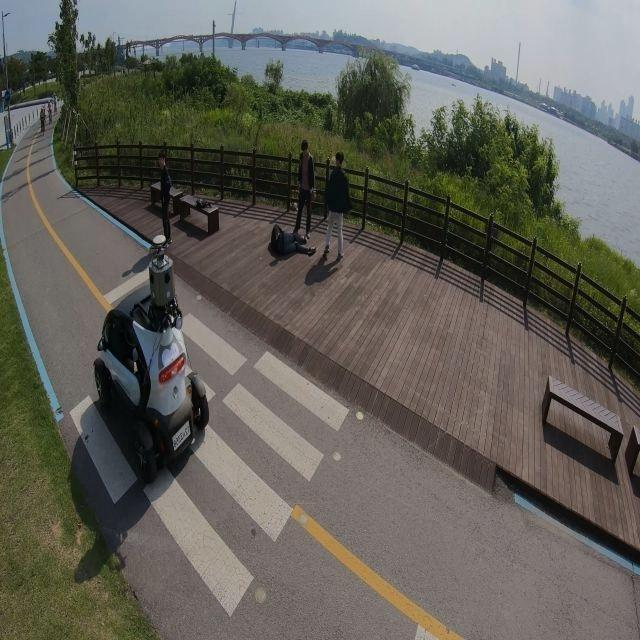fight: (321, 152, 352, 258), (293, 140, 317, 237)
non-fight: (269, 223, 316, 257), (158, 151, 175, 241)
